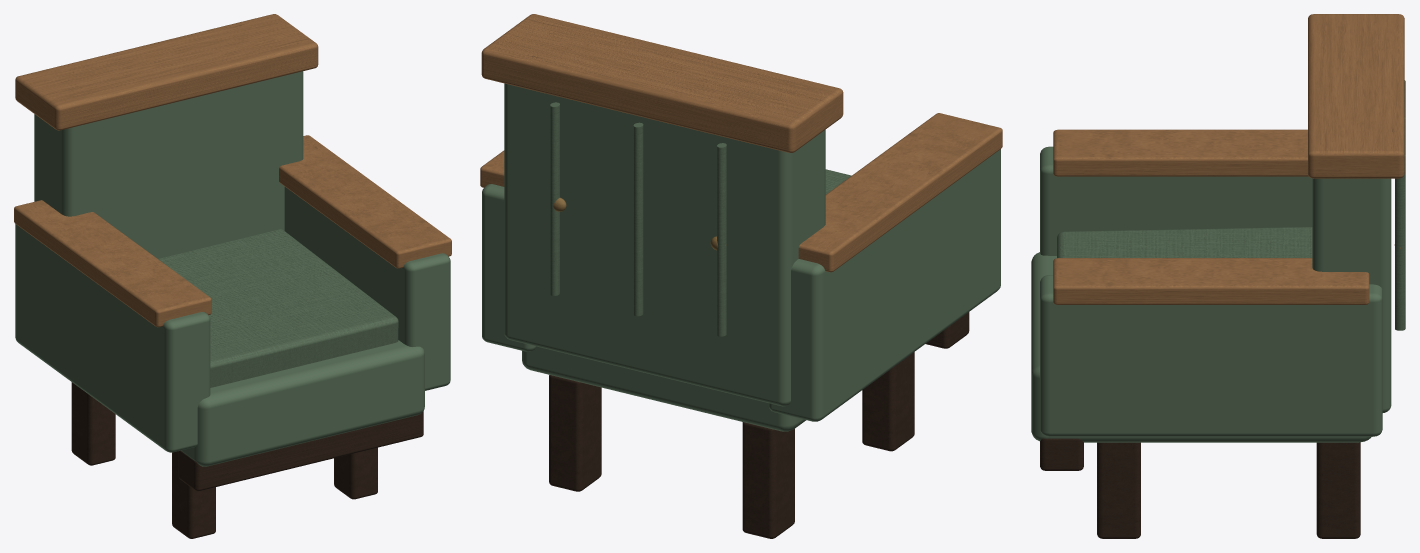
The model's file is armchair.glb.
The picture shows the model from 3 angles, left to right: view 1: azimuth 30°, elevation 25°; view 2: azimuth 150°, elevation 25°; view 3: azimuth 270°, elevation 25°; orthographic projection. The views are drawn at different scales.
Visible parts, largest first — view 1: armchair; view 2: armchair; view 3: armchair.
Part boxes in pixels (x1,y1,x2,y2): armchair: (14, 14, 451, 538); armchair: (480, 14, 1002, 538); armchair: (1031, 14, 1405, 538).
Size of the model in its own units: 1 by 1.2 by 1.
Materials: 1 (1 with a texture image).
